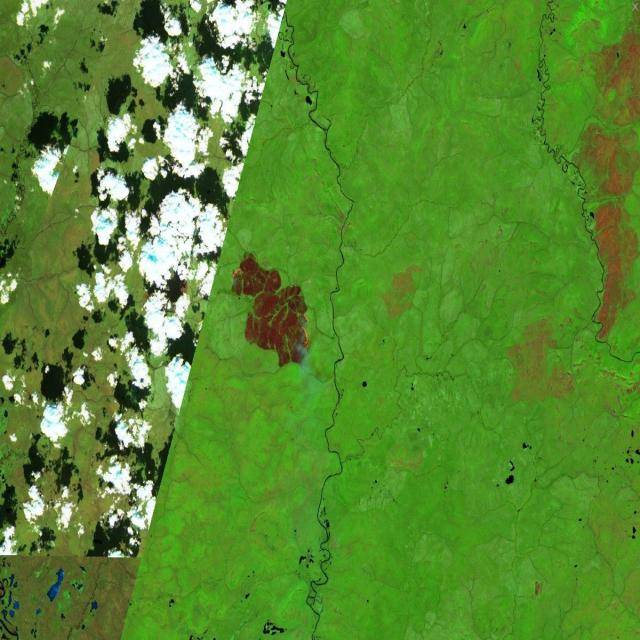fire: (229, 265, 311, 356)
